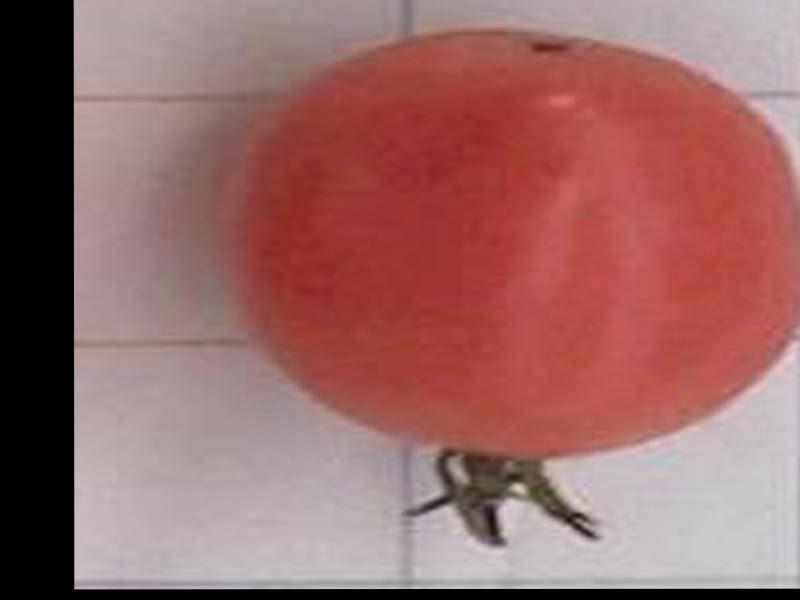Tomato: (225, 27, 800, 456)
